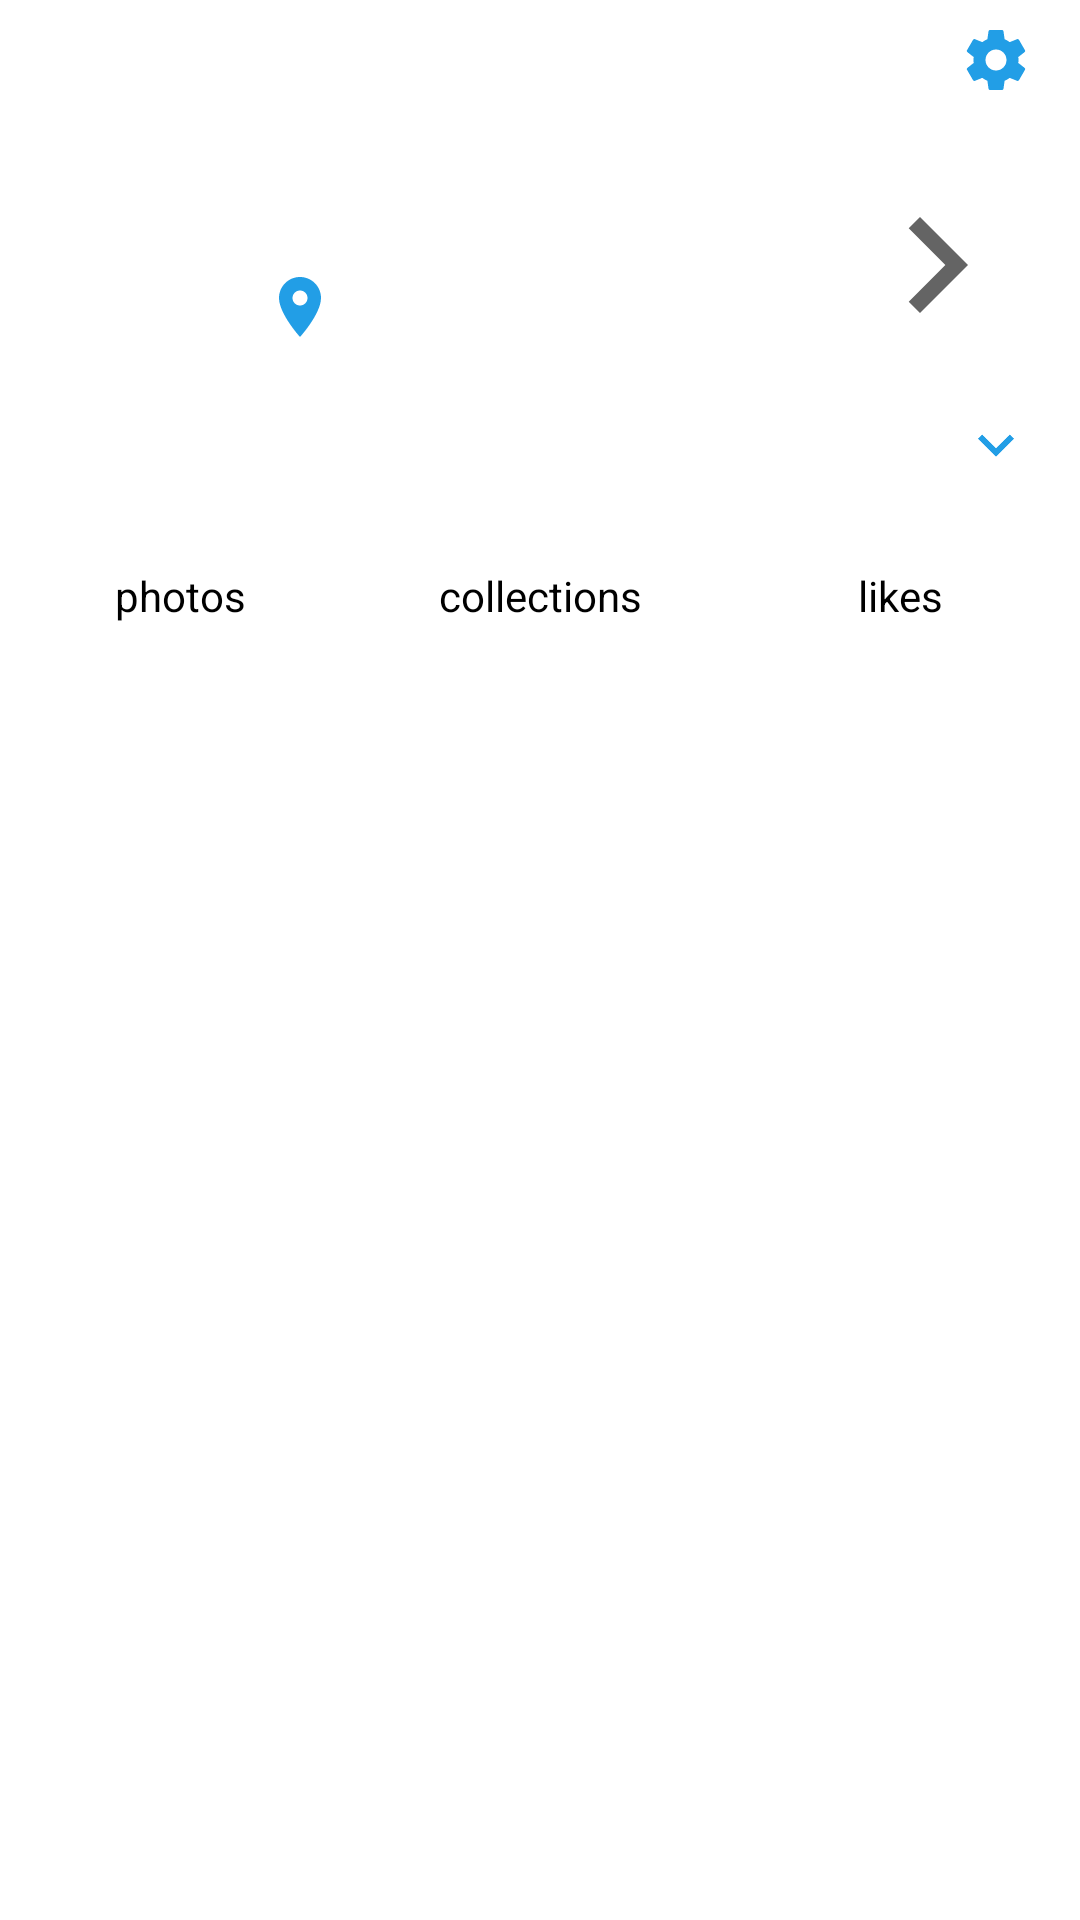

Named icons in this screenshot (1080w x 1920h) and their centers, (x,y):
arrow down: (996,445)
arrow right: (938,265)
settings: (995,60)
